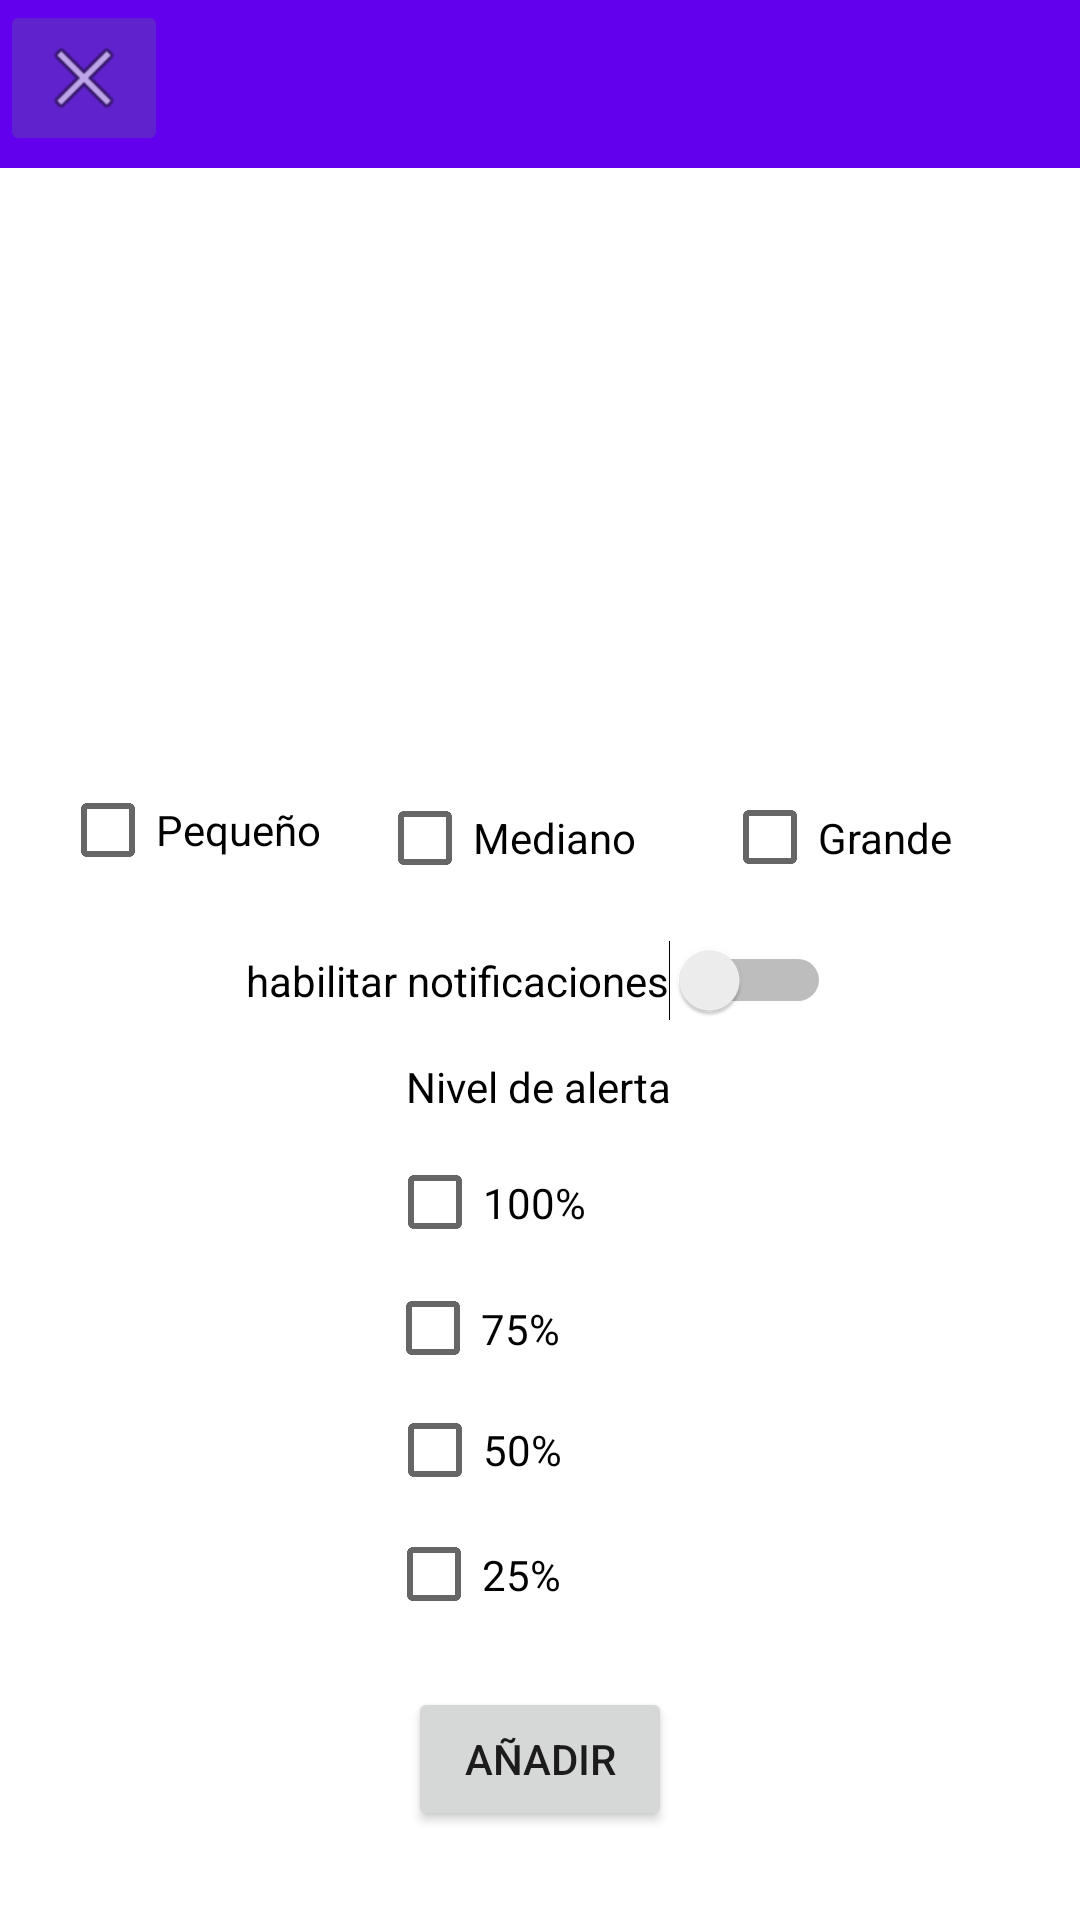

Named icons in this screenshot (1080w x 1920h) and their bounding boxes, (x1, y1, x2, y2):
close clear cancel: (12, 18, 156, 138)
